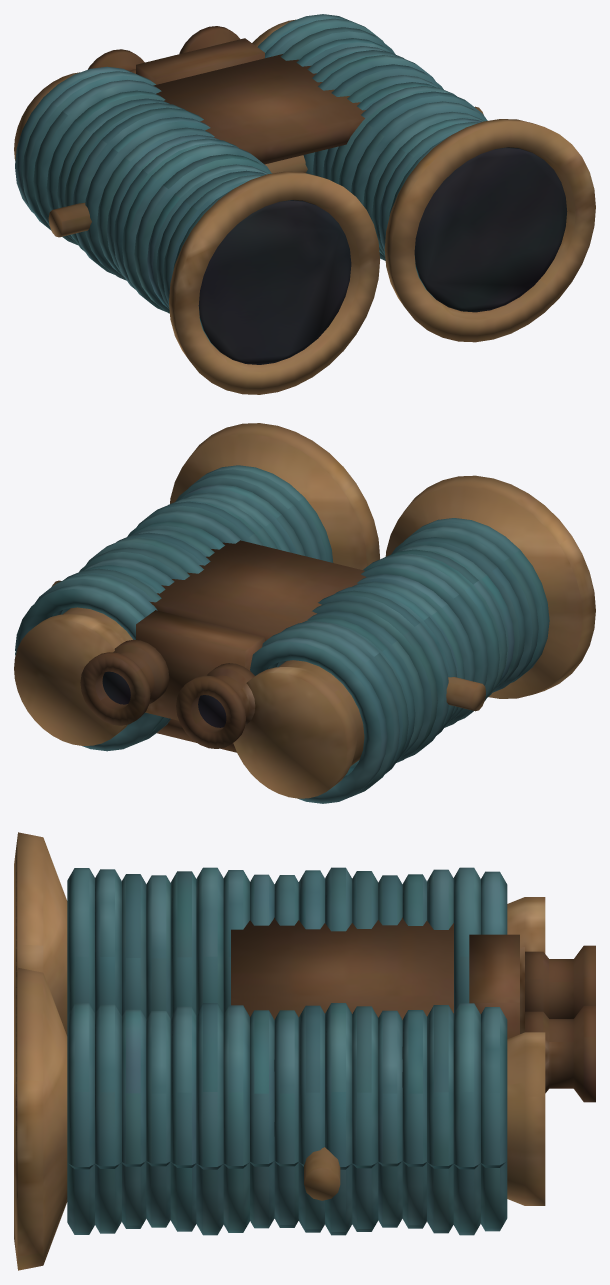
File: binocular_head.glb
The picture shows the model from 3 angles, top to bottom: view 1: azimuth 30°, elevation 25°; view 2: azimuth 150°, elevation 25°; view 3: azimuth 270°, elevation 25°; orthographic projection. The views are drawn at different scales.
Visible parts, largest first — view 1: prop_binocular_head_felt, prop_binocular_head_wood; view 2: prop_binocular_head_wood, prop_binocular_head_felt; view 3: prop_binocular_head_felt, prop_binocular_head_wood.
Part boxes in pixels (<box>): prop_binocular_head_felt: <box>15,14,567,364</box>; prop_binocular_head_wood: <box>14,19,595,394</box>; prop_binocular_head_wood: <box>14,423,595,798</box>; prop_binocular_head_felt: <box>15,465,549,803</box>; prop_binocular_head_felt: <box>67,867,507,1235</box>; prop_binocular_head_wood: <box>14,832,595,1270</box>.
Bounding box in the file's own units: 0.62 × 0.3 × 0.574.
Materials: 2 (2 with a texture image).
